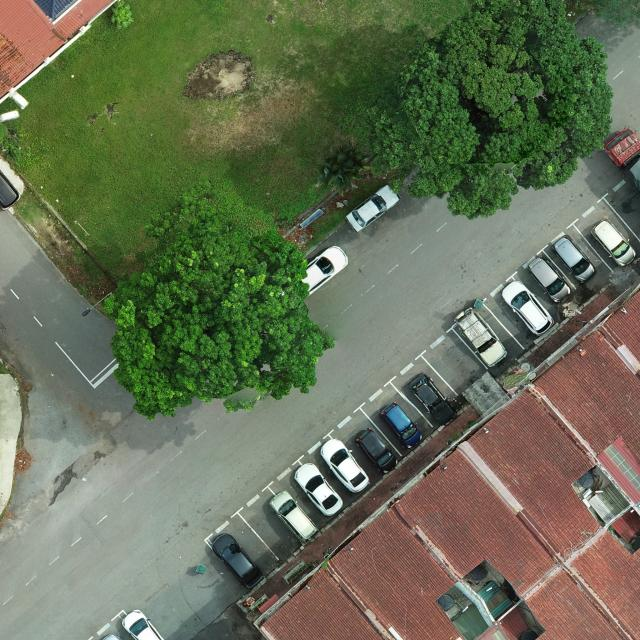tree: (102, 178, 336, 423), (396, 0, 614, 223), (314, 140, 374, 197), (110, 0, 135, 30)
